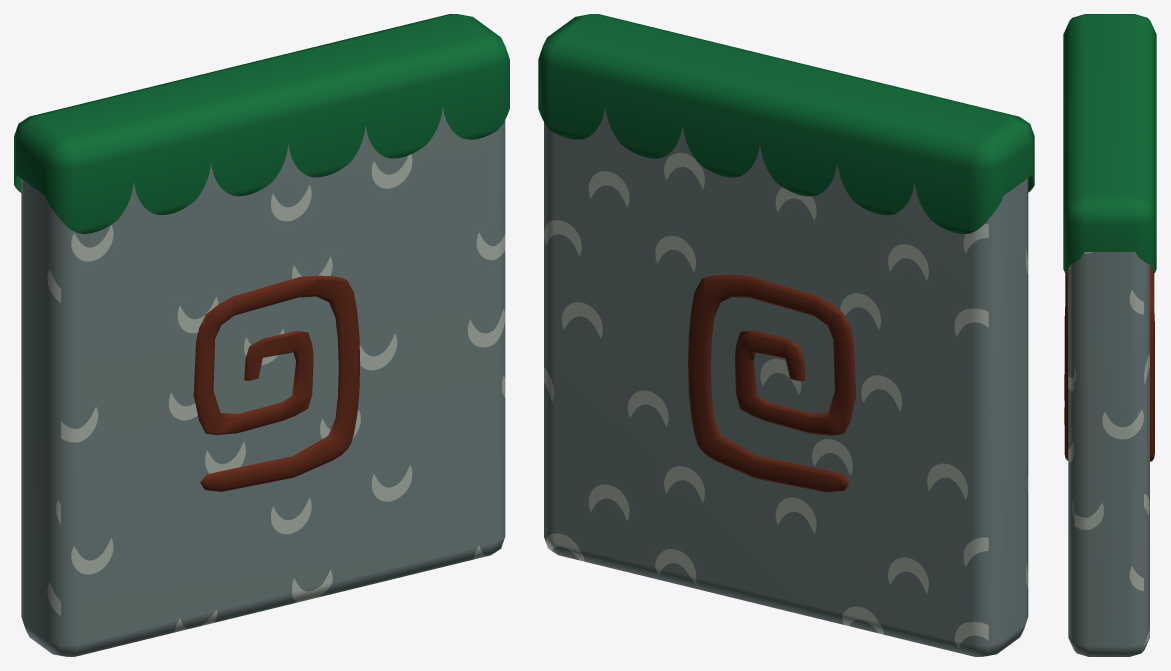
File: DoorLow.fbx
The picture shows the model from 3 angles, left to right: view 1: azimuth 30°, elevation 25°; view 2: azimuth 150°, elevation 25°; view 3: azimuth 270°, elevation 25°; orthographic projection. The views are drawn at different scales.
Parts seen in each view (by area): view 1: Doorr2; view 2: Doorr2; view 3: Doorr2.
Boxes of the visible parts, x1,y1,x2,y2 form: Doorr2: (14,14,509,656); Doorr2: (538,14,1034,656); Doorr2: (1063,14,1156,656).
Size of the model in its own units: 3.12 by 3.37 by 0.6184.
